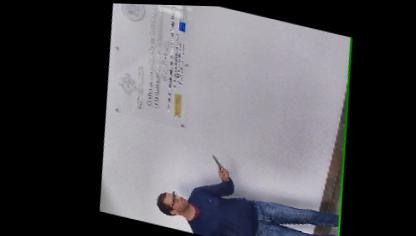knife: (201, 150, 228, 176)
